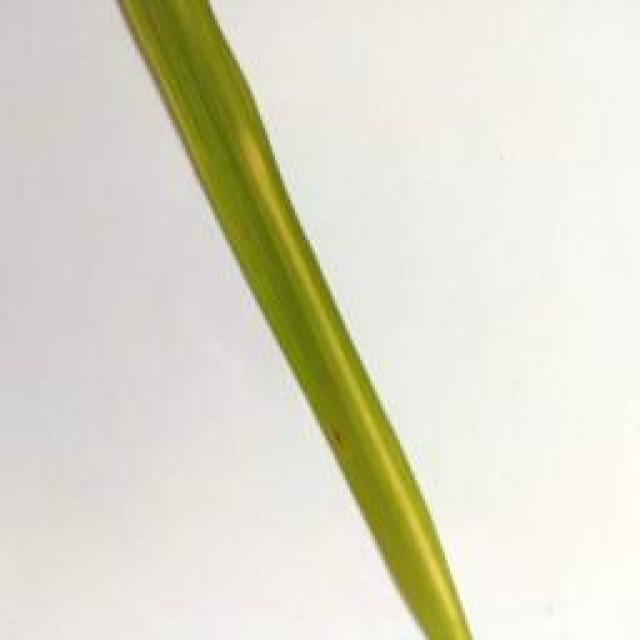Bacterial_Blight: (226, 103, 522, 640)
Brown_Spot: (313, 387, 363, 484)
